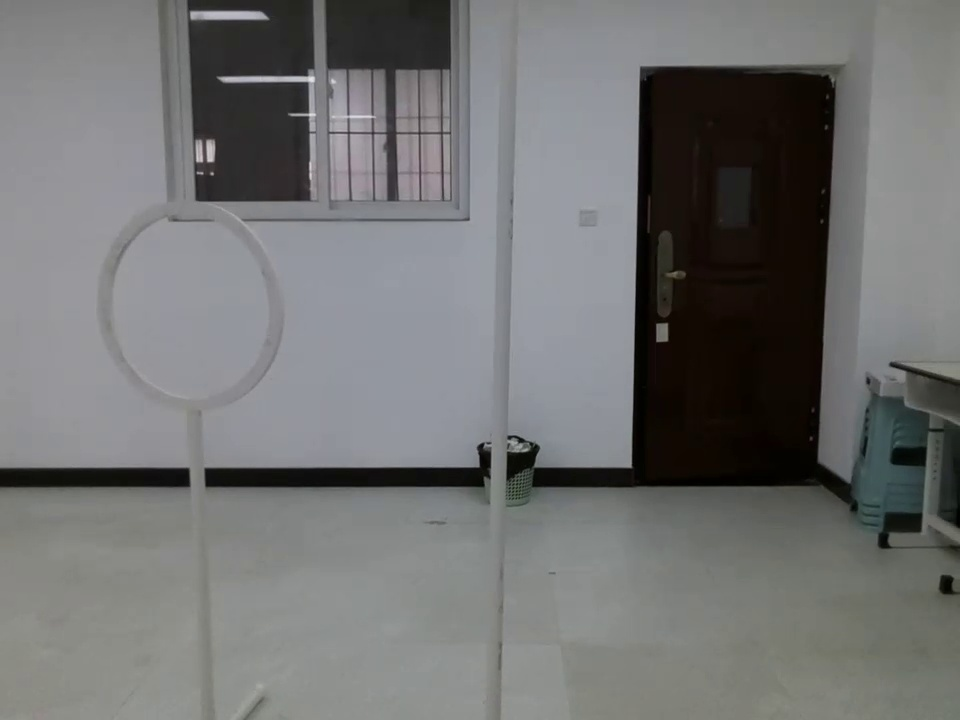gan: (474, 3, 520, 714)
quan: (62, 186, 298, 437)
